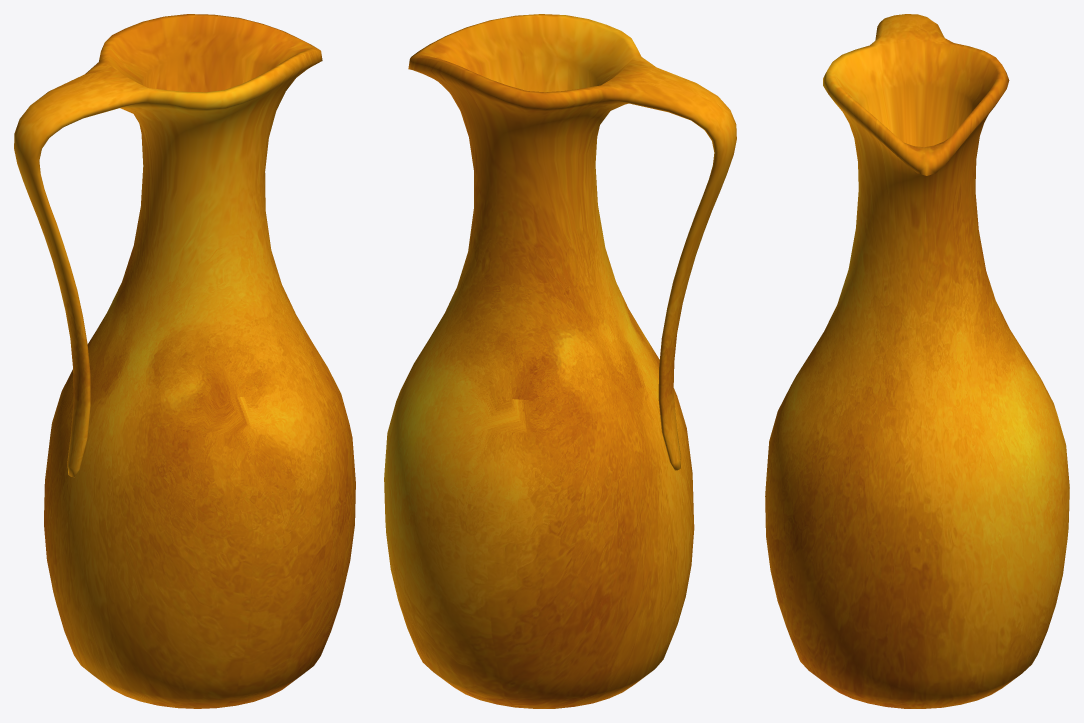
File: jar.FBX
3 views of the same model, side by side, from view 1: azimuth 30°, elevation 25°; view 2: azimuth 150°, elevation 25°; view 3: azimuth 270°, elevation 25° (orthographic). The views are drawn at different scales.
Visible parts, largest first — view 1: jar; view 2: jar; view 3: jar.
Part boxes in pixels (x1,y1,x2,y2): jar: [14, 14, 355, 708]; jar: [384, 14, 736, 708]; jar: [765, 14, 1069, 708].
Size of the model in its own units: 0.2136 by 0.1819 by 0.3919.
